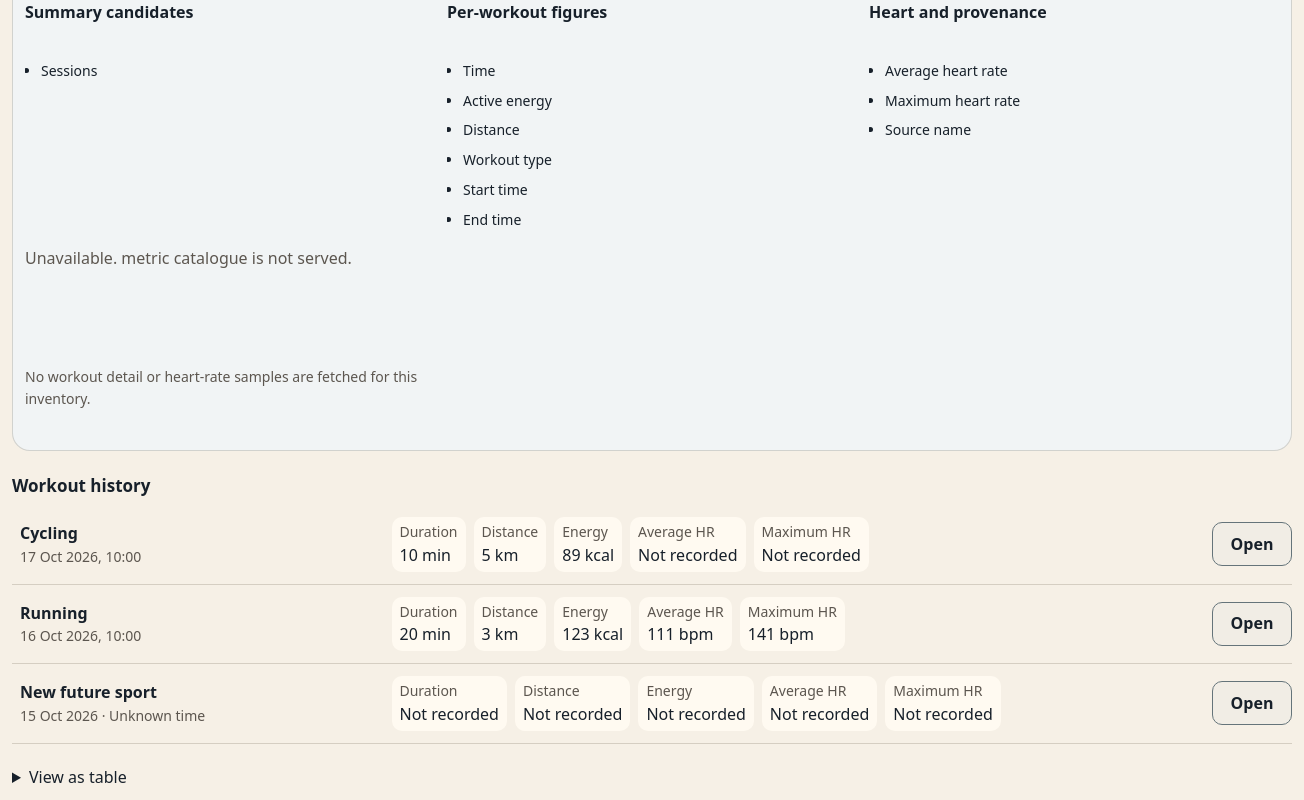
Test: Workouts section › shows freshness, training, class cards, and one visible history layout
(page scrolled)
Expected: the list named "Recorded workout history" is shown, [12,505,1292,744]
Expected: the text "Not recorded" next to "89 kcal" is shown, [638,544,738,566]
Click the heading "View as table": (78, 777) [29,766,127,788]
(page scrolled)
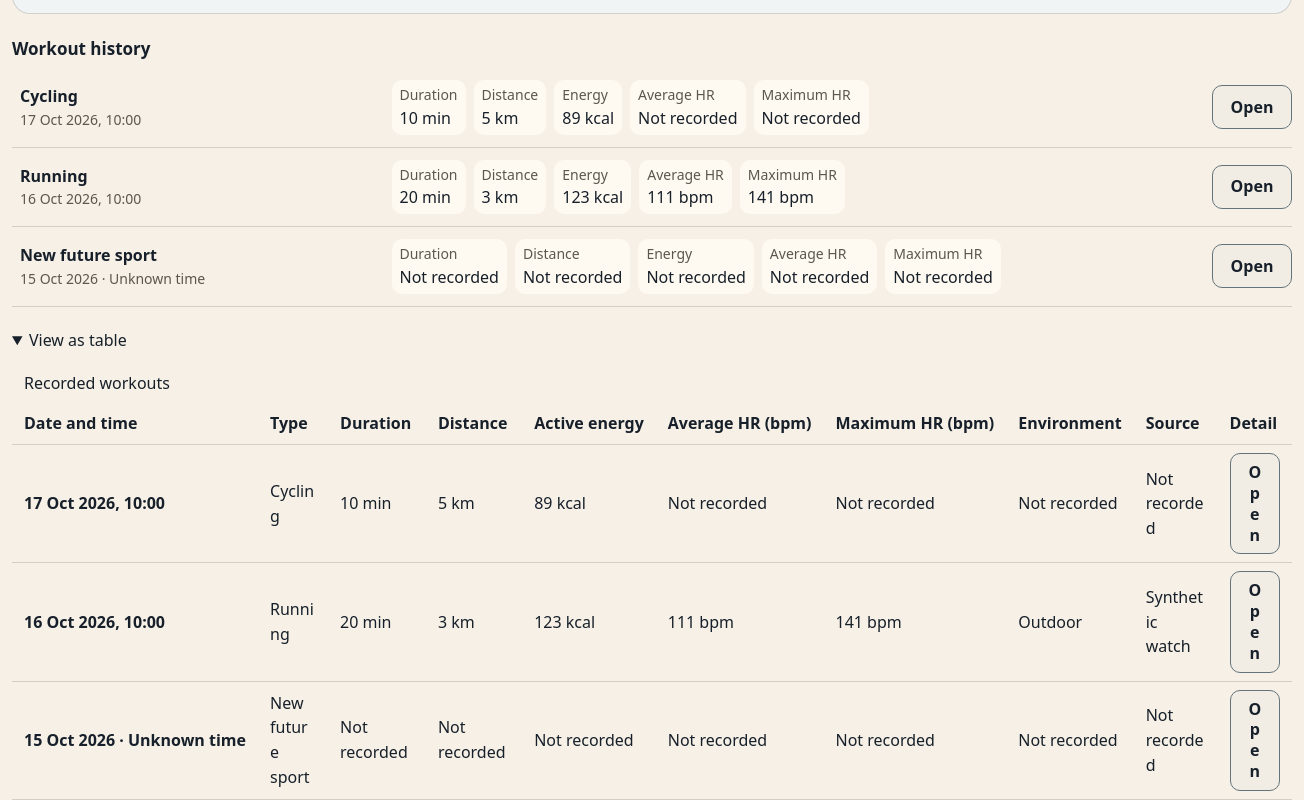
Expected: the element named "Workouts in the loaded rows" is shown, [12,363,1292,799]
